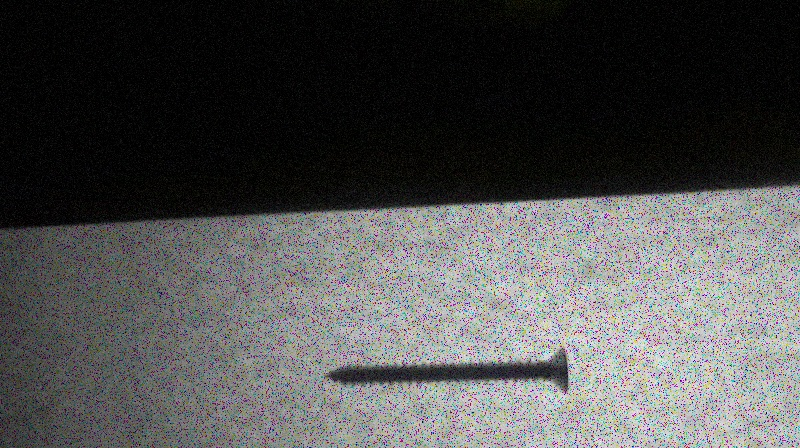S002: (321, 344, 573, 401)
